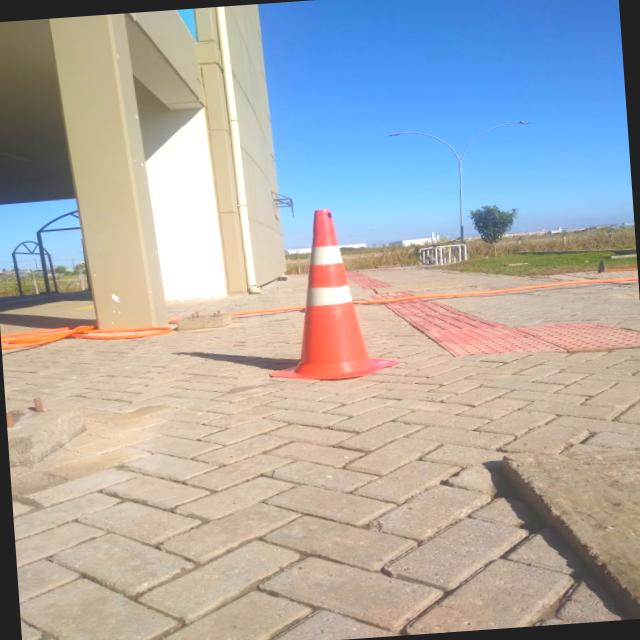cone: (252, 199, 404, 384)
